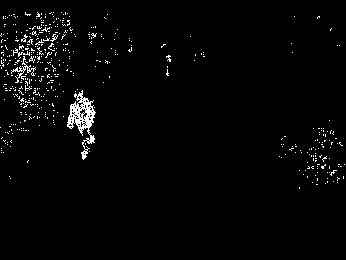person: (67, 87, 101, 163)
